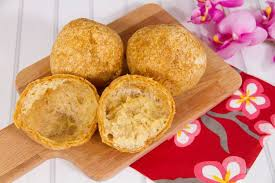bakso: (22, 18, 204, 150)
